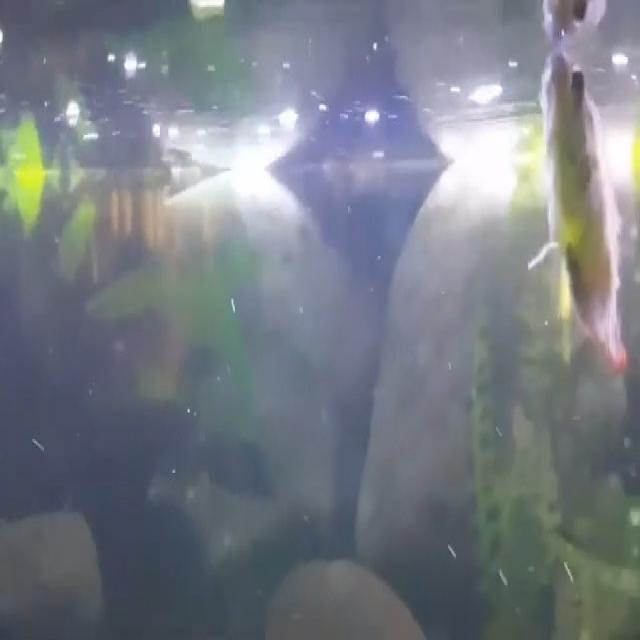fish: (539, 26, 635, 374)
